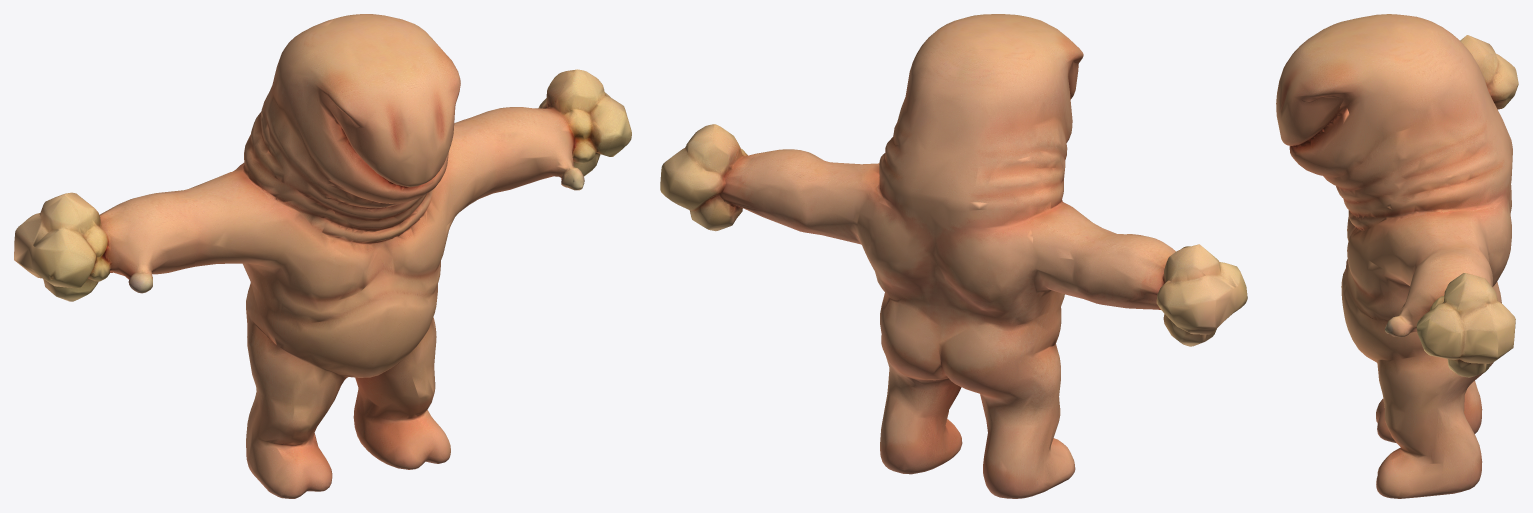
File: Meshy_AI_Buff_Blobbell_0821154423_texture.fbx
The picture shows the model from 3 angles, left to right: view 1: azimuth 30°, elevation 25°; view 2: azimuth 150°, elevation 25°; view 3: azimuth 270°, elevation 25°; orthographic projection. The views are drawn at different scales.
Parts seen in each view (by area): view 1: Mesh_0; view 2: Mesh_0; view 3: Mesh_0.
Part boxes in pixels (box(x1,y1,x2,y2)): Mesh_0: box(14, 14, 631, 498); Mesh_0: box(660, 14, 1247, 498); Mesh_0: box(1276, 14, 1518, 498).
Size of the model in its own units: 200 by 147 by 74.66.
1 material, 1 textured.
